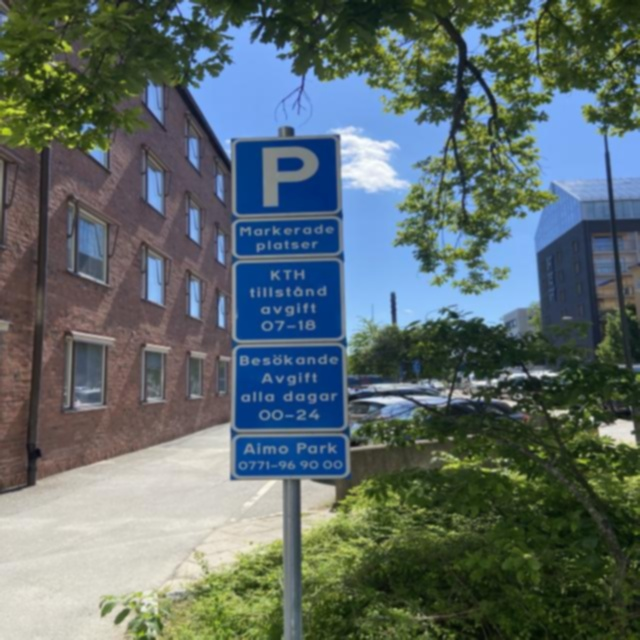P-skylt: (228, 134, 347, 216)
